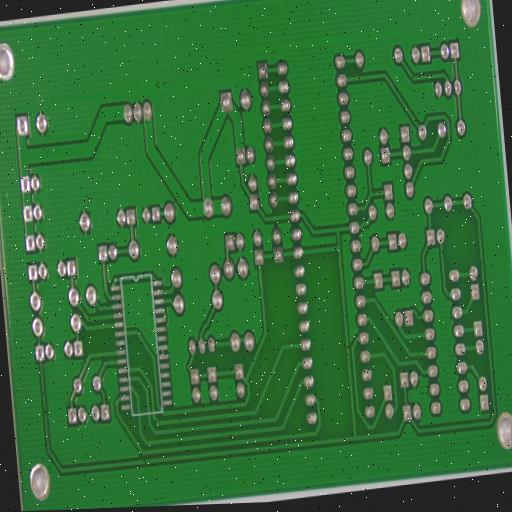mouse_bite: (141, 456, 148, 467), (79, 307, 85, 319)
